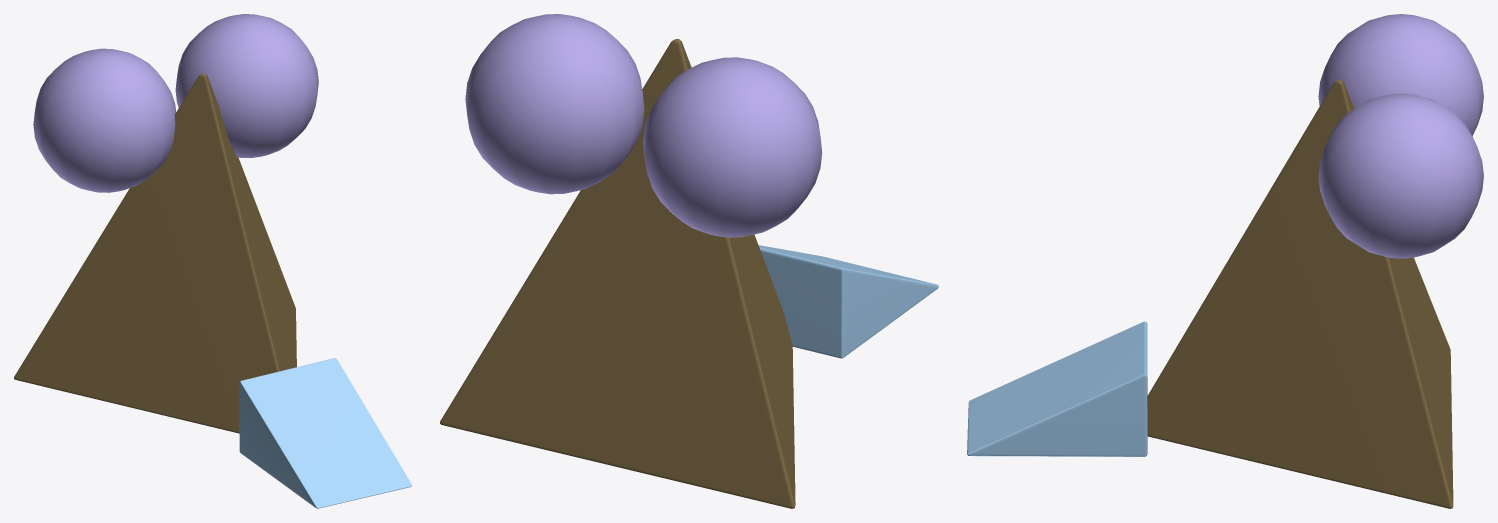
Rendered from Character_S.fbx.
3 renders of one model, left to right at view 1: azimuth 30°, elevation 25°; view 2: azimuth 150°, elevation 25°; view 3: azimuth 270°, elevation 25°, orthographic. The views are drawn at different scales.
Visible parts, largest first — view 1: Character_s_ingame; view 2: Character_s_ingame; view 3: Character_s_ingame.
Boxes of the visible parts, box(x1,y1,x2,y2) form: Character_s_ingame: box(14, 14, 411, 508); Character_s_ingame: box(440, 14, 938, 508); Character_s_ingame: box(967, 14, 1483, 508).
Bounding box in the file's own units: 22.97 × 25.17 × 31.85.
